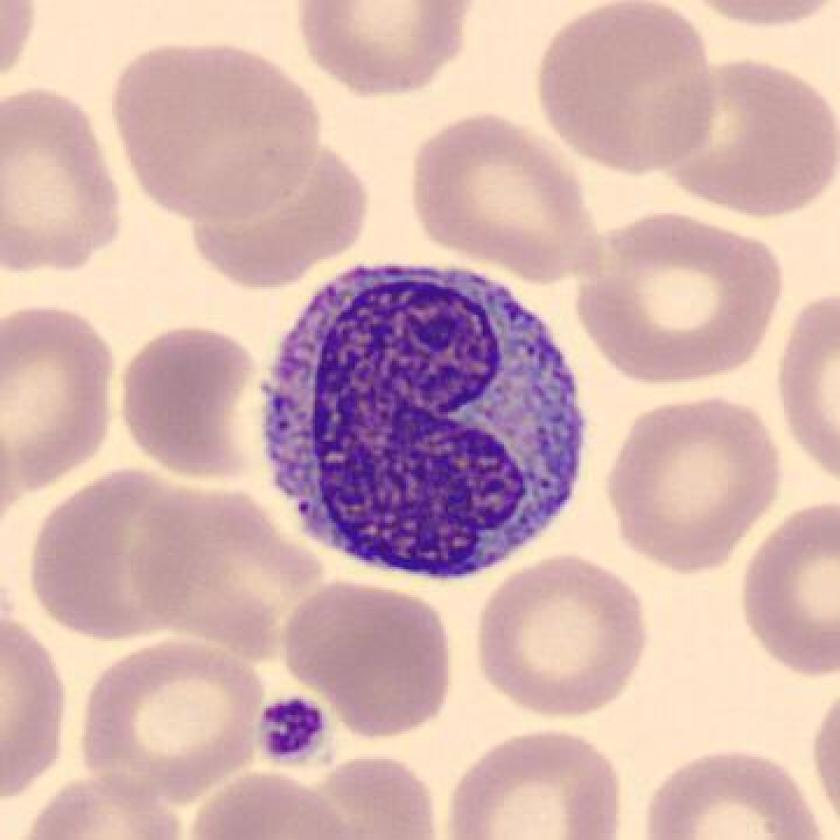monocyte: (239, 242, 612, 603)
